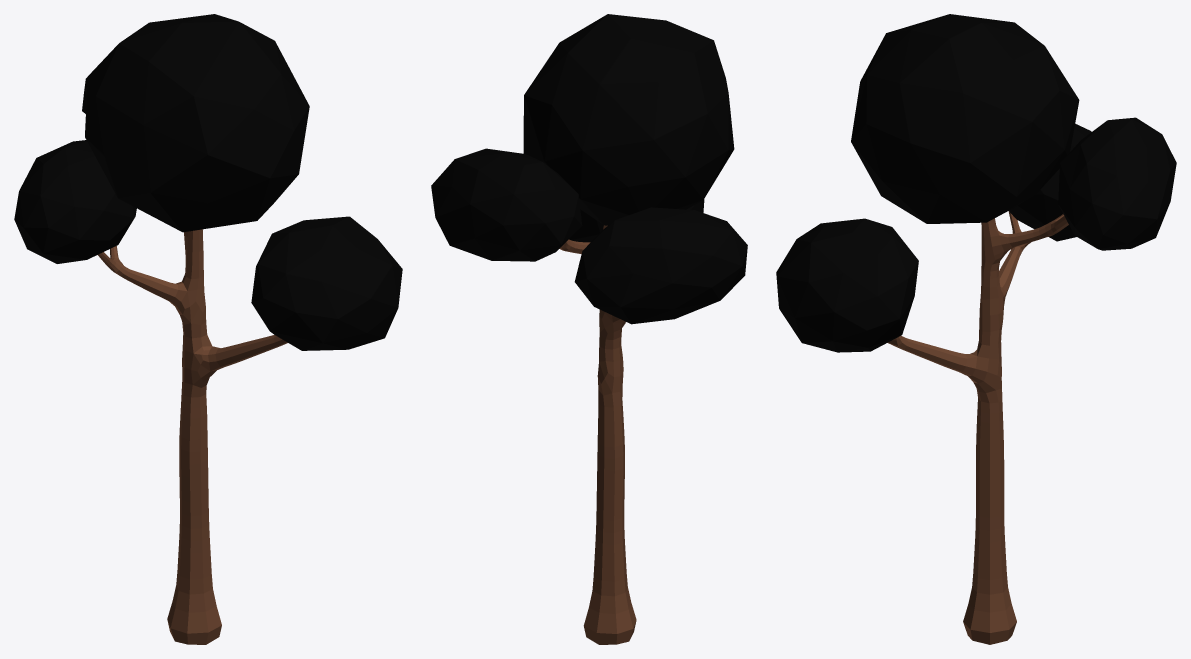
File: Tree_Foliage_Tiny-2.fbx
The picture shows the model from 3 angles, left to right: view 1: azimuth 30°, elevation 25°; view 2: azimuth 150°, elevation 25°; view 3: azimuth 270°, elevation 25°; orthographic projection. The views are drawn at different scales.
Visible parts, largest first — view 1: Tree_Foliage_Tiny-2; view 2: Tree_Foliage_Tiny-2; view 3: Tree_Foliage_Tiny-2.
Boxes of the visible parts, x1,y1,x2,y2 form: Tree_Foliage_Tiny-2: (14,14,402,644); Tree_Foliage_Tiny-2: (431,14,747,644); Tree_Foliage_Tiny-2: (776,14,1176,644).
Size of the model in its own units: 0.3334 by 0.7004 by 0.4149.
